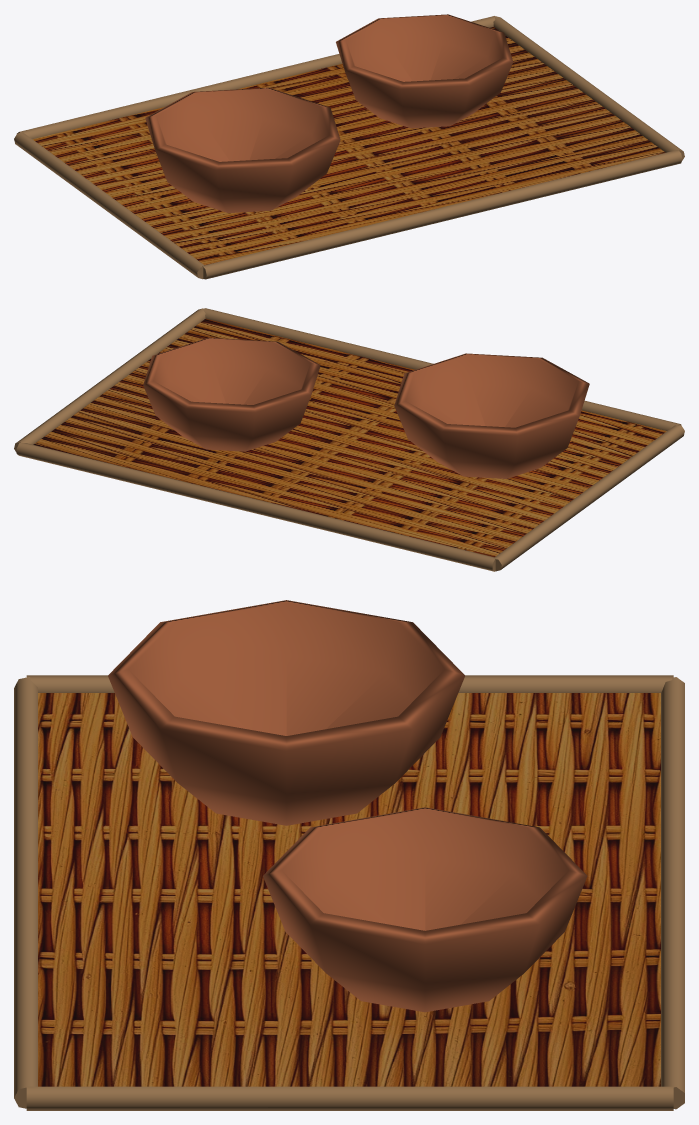
Rendered from periodReedMat.glb.
The picture shows the model from 3 angles, top to bottom: view 1: azimuth 30°, elevation 25°; view 2: azimuth 150°, elevation 25°; view 3: azimuth 270°, elevation 25°; orthographic projection. The views are drawn at different scales.
Visible parts, largest first — view 1: part_0, part_2, part_1; view 2: part_0, part_2, part_1; view 3: part_0, part_2, part_1.
Part boxes in pixels (x1=…): part_0: x1=33, y1=27, x2=665, y2=265; part_2: x1=145, y1=14, x2=513, y2=213; part_1: x1=14, y1=16, x2=684, y2=279; part_0: x1=33, y1=318, x2=666, y2=557; part_2: x1=143, y1=337, x2=589, y2=478; part_1: x1=14, y1=308, x2=684, y2=571; part_0: x1=38, y1=693, x2=660, y2=1086; part_2: x1=108, y1=600, x2=587, y2=1012; part_1: x1=14, y1=675, x2=684, y2=1110.
Bounding box in the file's own units: 0.8614 × 0.1222 × 0.5809.
Materials: 3 (1 with a texture image).
